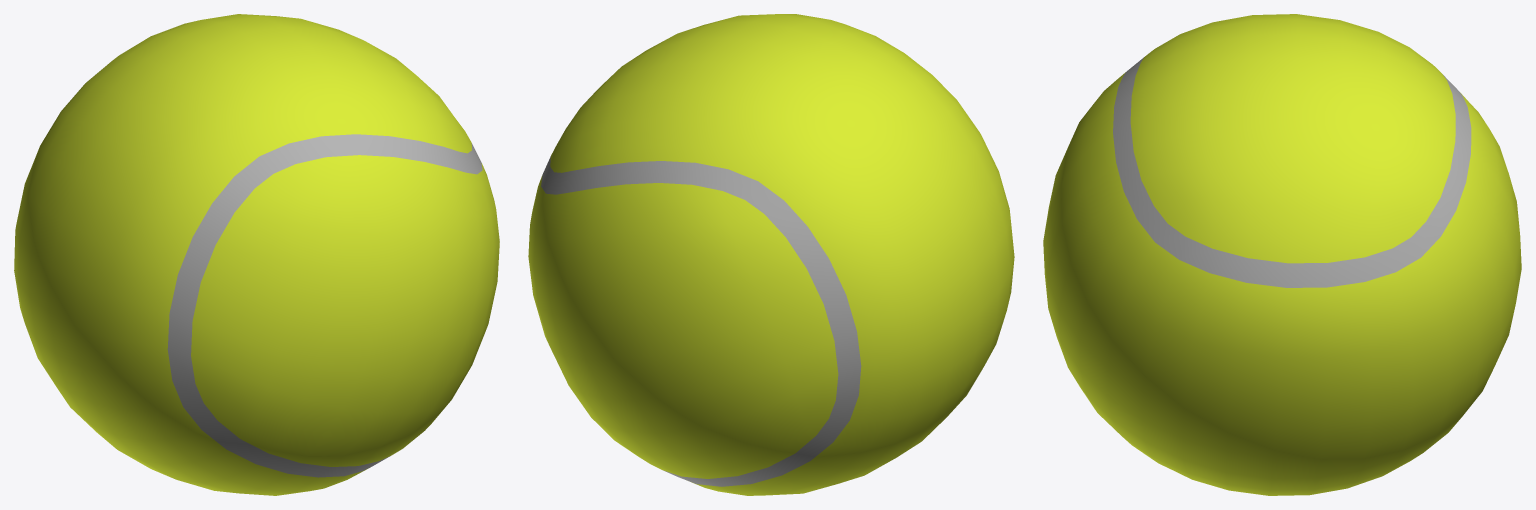
File: PELOTA___TENNIS.fbx
The picture shows the model from 3 angles, left to right: view 1: azimuth 30°, elevation 25°; view 2: azimuth 150°, elevation 25°; view 3: azimuth 270°, elevation 25°; orthographic projection.
Visible parts, largest first — view 1: Object_4; view 2: Object_4; view 3: Object_4.
Boxes of the visible parts, left/top/right/bottom form: Object_4: left=14, top=14, right=499, bottom=495; Object_4: left=528, top=14, right=1014, bottom=495; Object_4: left=1043, top=14, right=1521, bottom=495.
Size of the model in its own units: 192 by 191 by 190.
